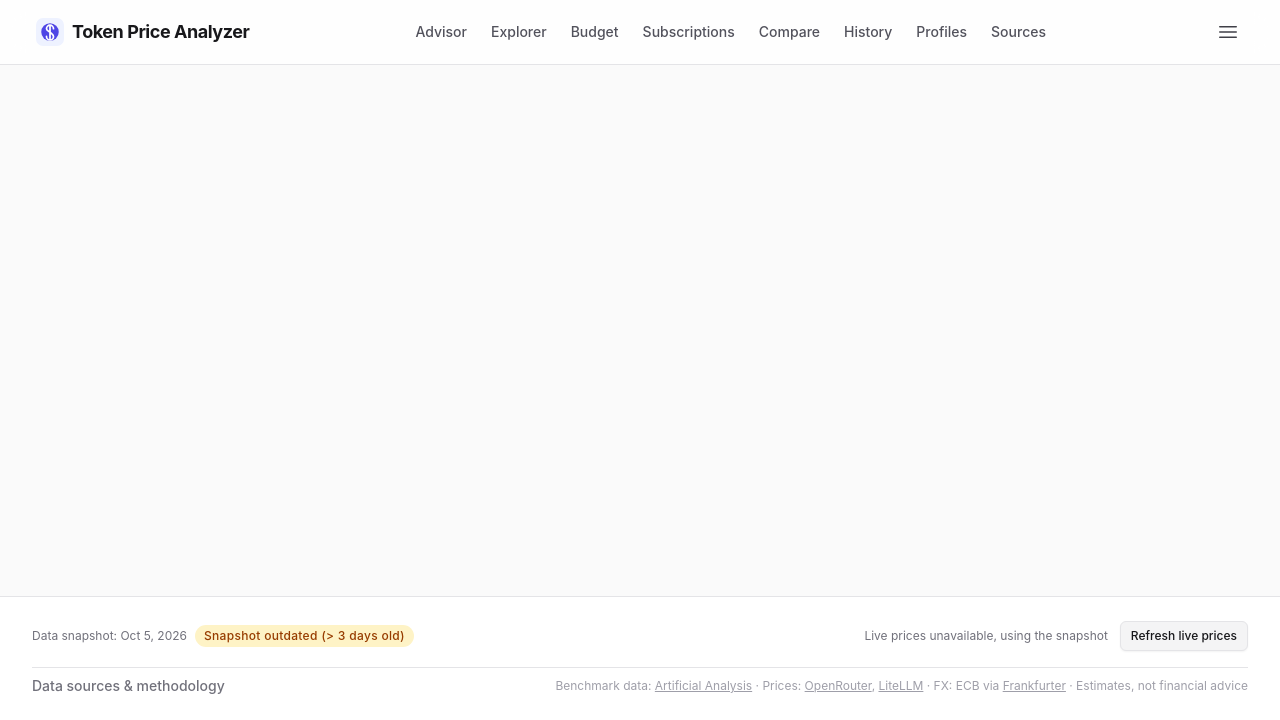
Test case: SourcesPage › provides accessible names for diagnostic filters
The image size is (1280, 720).
Step 1. Click the link "Sources" → (1019, 32), box [991,23,1046,40]
(page scrolled)
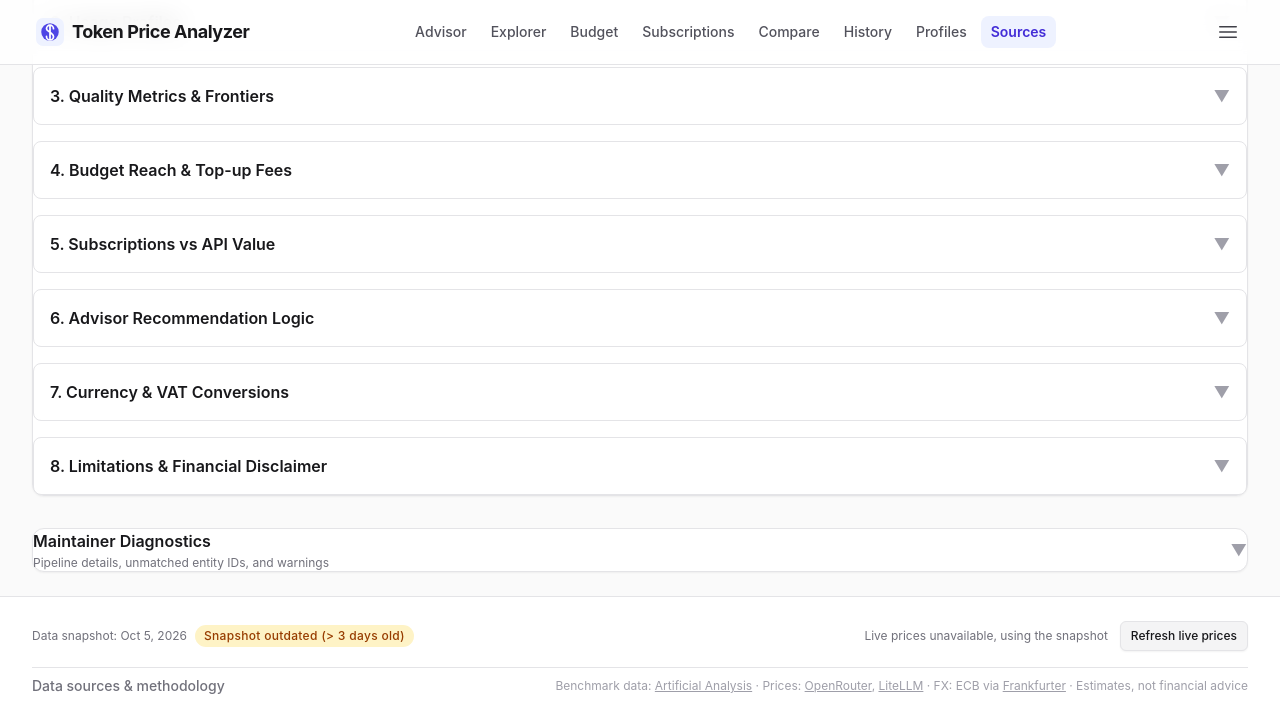
Step 2. Click the text "Maintainer Diagnostics" → (122, 541), box [33,531,211,551]
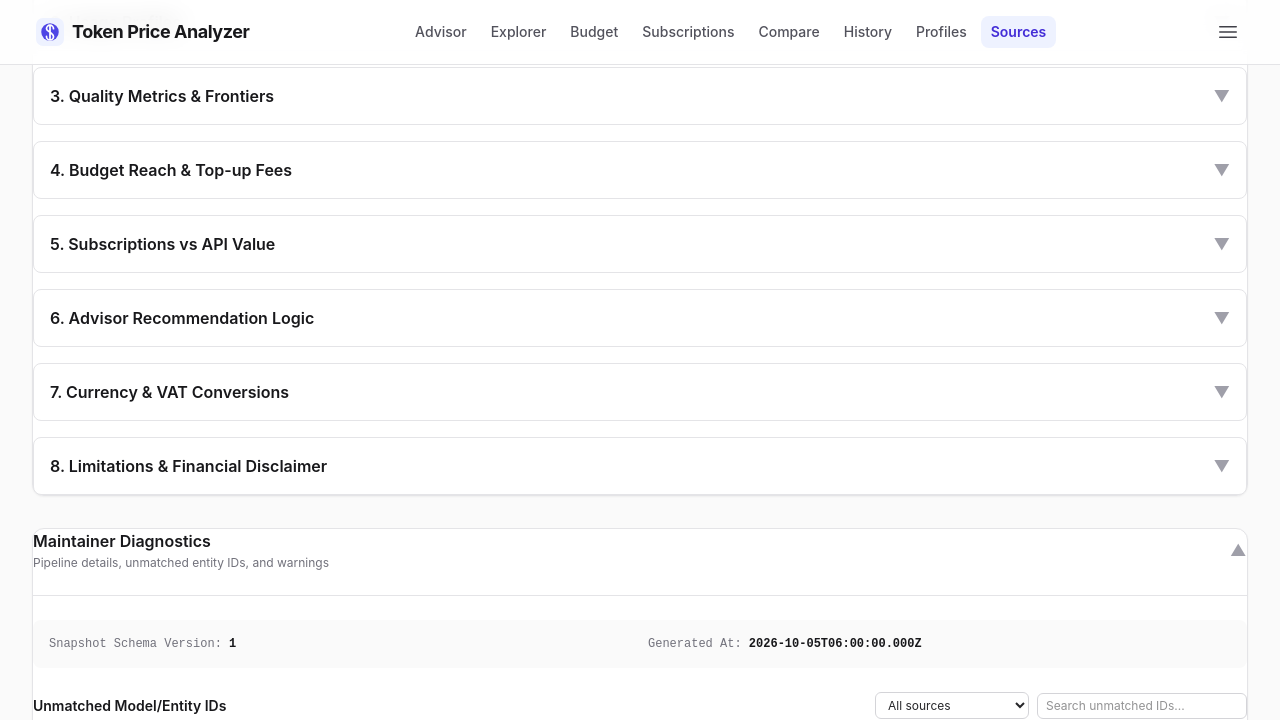
Check: the dropdown named "Filter source" is shown, box [875,692,1029,719]
Check: the field labelled "Search unmatched IDs" is shown, box [1037,692,1247,718]
